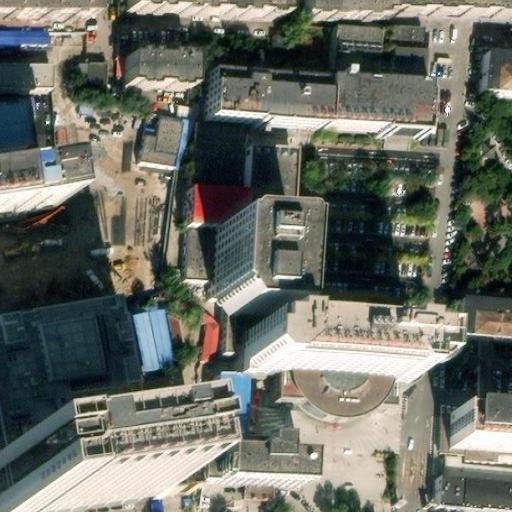building: (0, 238, 143, 338), (243, 345, 426, 401), (201, 66, 321, 131), (207, 222, 282, 320), (316, 76, 423, 140), (177, 188, 238, 271), (236, 146, 291, 227), (144, 383, 199, 454), (216, 449, 301, 493), (188, 124, 242, 191), (448, 456, 512, 504), (211, 388, 249, 461), (450, 297, 512, 337), (120, 52, 190, 87), (450, 419, 512, 458), (328, 33, 379, 80), (138, 114, 180, 166), (126, 0, 284, 13), (84, 107, 153, 136), (389, 32, 427, 84), (93, 130, 141, 169), (475, 52, 512, 97), (0, 62, 51, 92), (302, 0, 385, 14), (0, 103, 21, 158), (0, 26, 48, 46), (79, 60, 102, 93)
